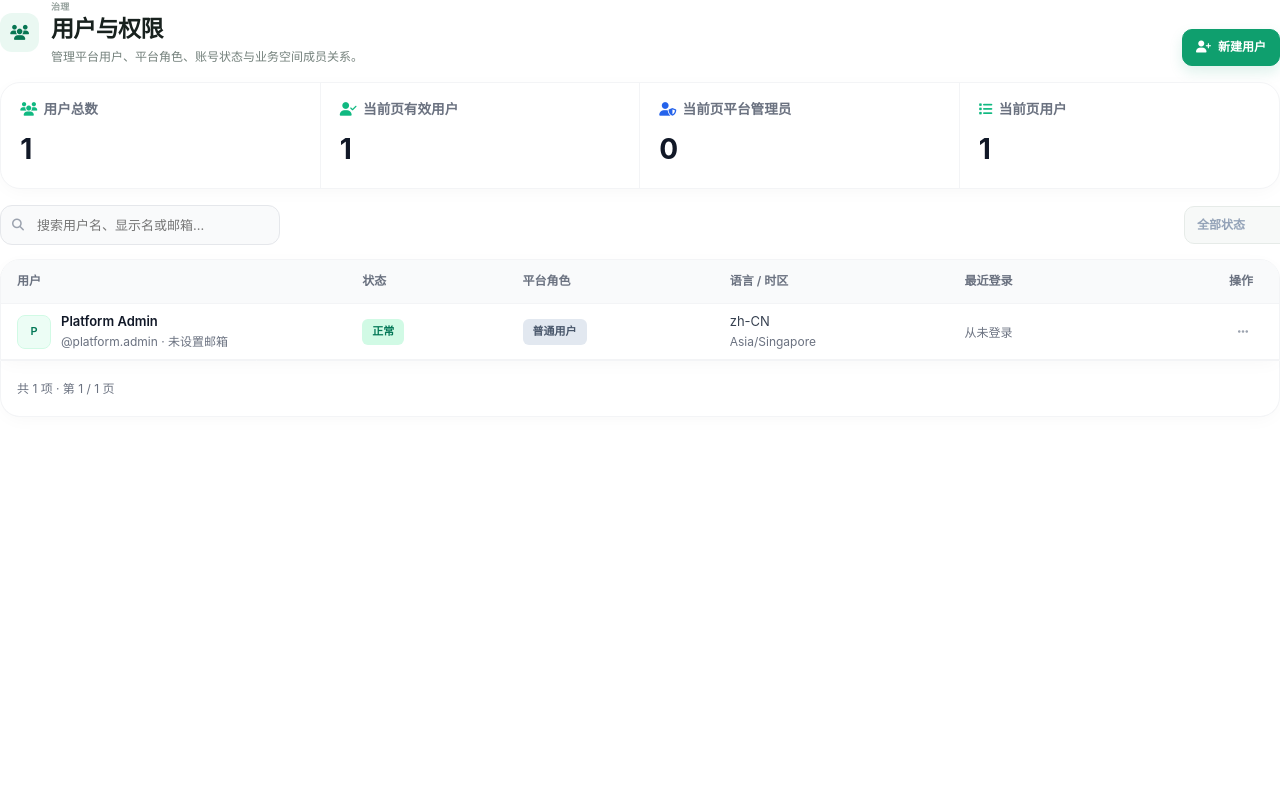
Scenario: user access management view › explains why create user is disabled and clears the reason when the form is valid
The width and height of the screenshot is (1280, 800).
Click the button "新建用户". click: click(1231, 47)
box: [1182,29,1279,66]
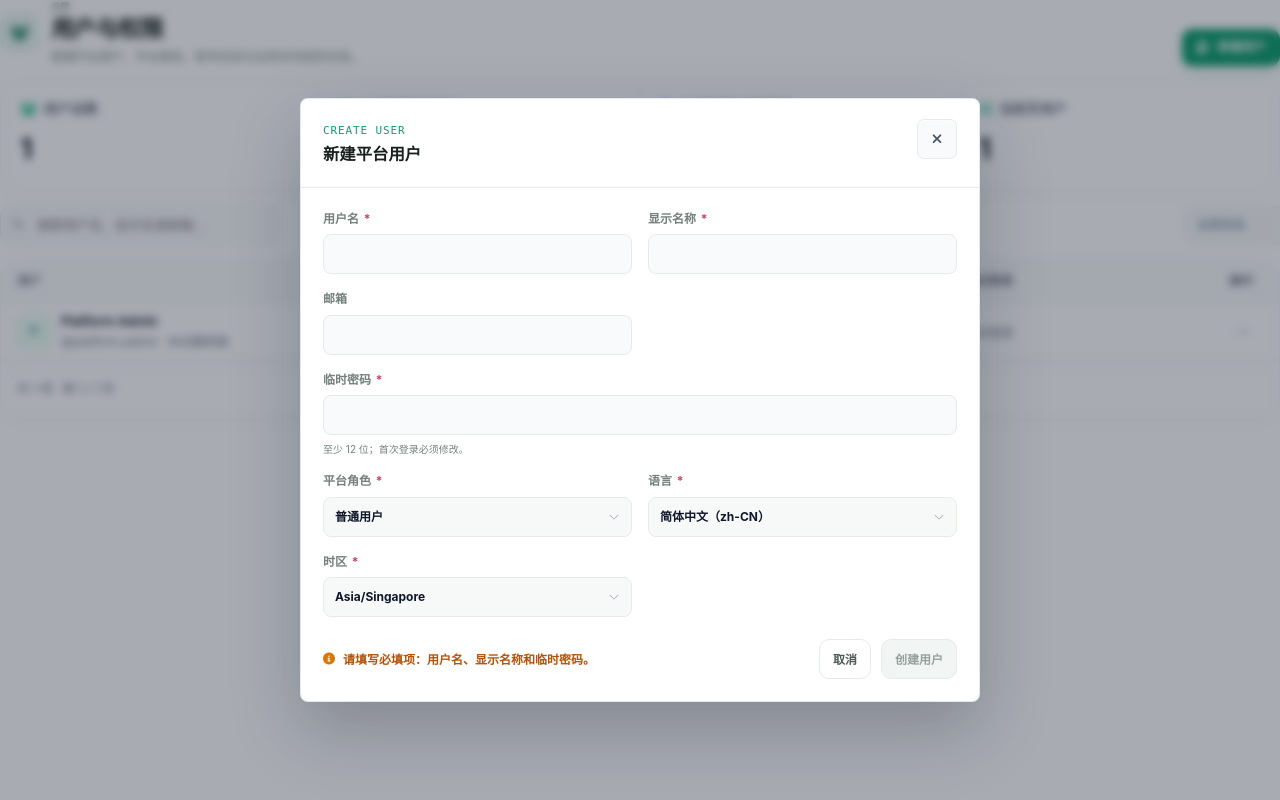
Result: the button "创建用户" is disabled at [881,639,957,679]
Result: the message with id "create-user-disabled-reason" reads "请填写必填项：用户名、显示名称和临时密码。" at [343,652,595,666]
Type "chenow" into the field labelled "用户名 *". click: (478, 254)
box: [323,234,632,274]
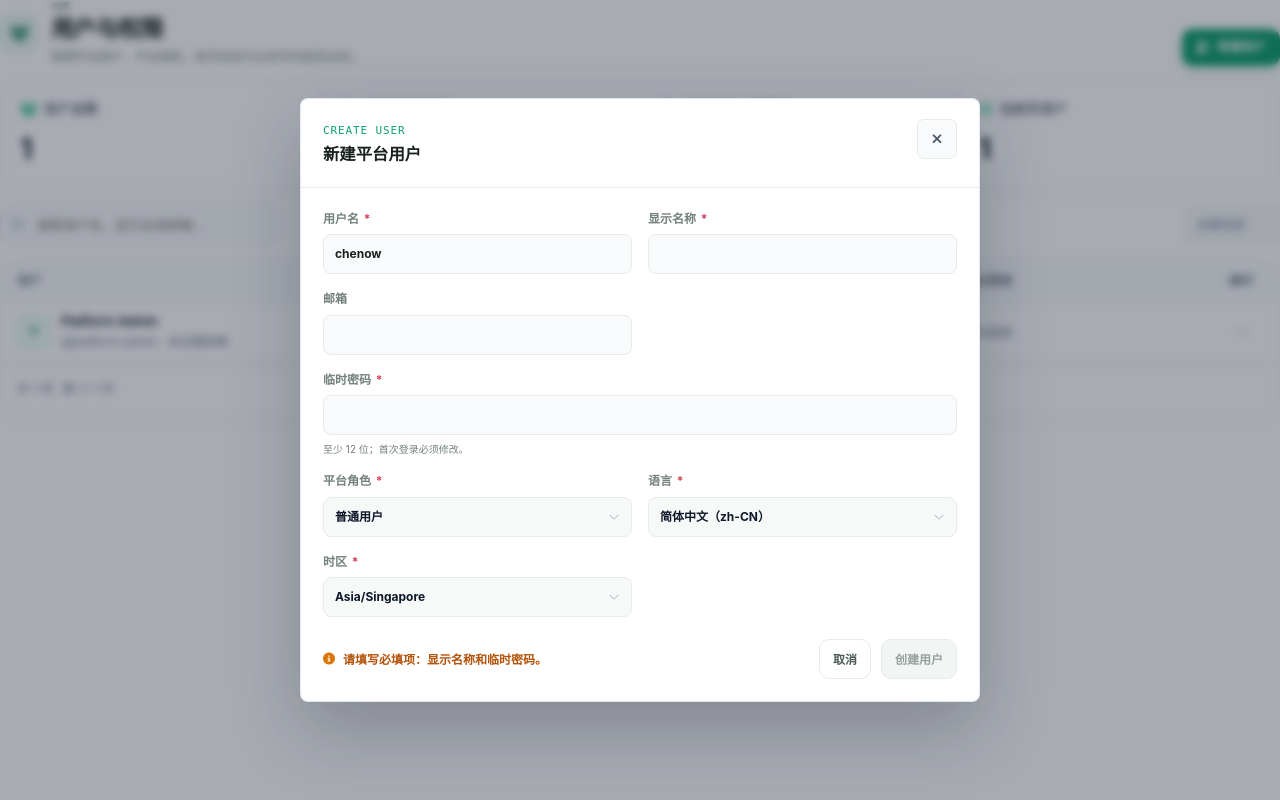
Type "chenow测试账号" into the field labelled "显示名称 *". click: (802, 254)
box: [648,234,957,274]
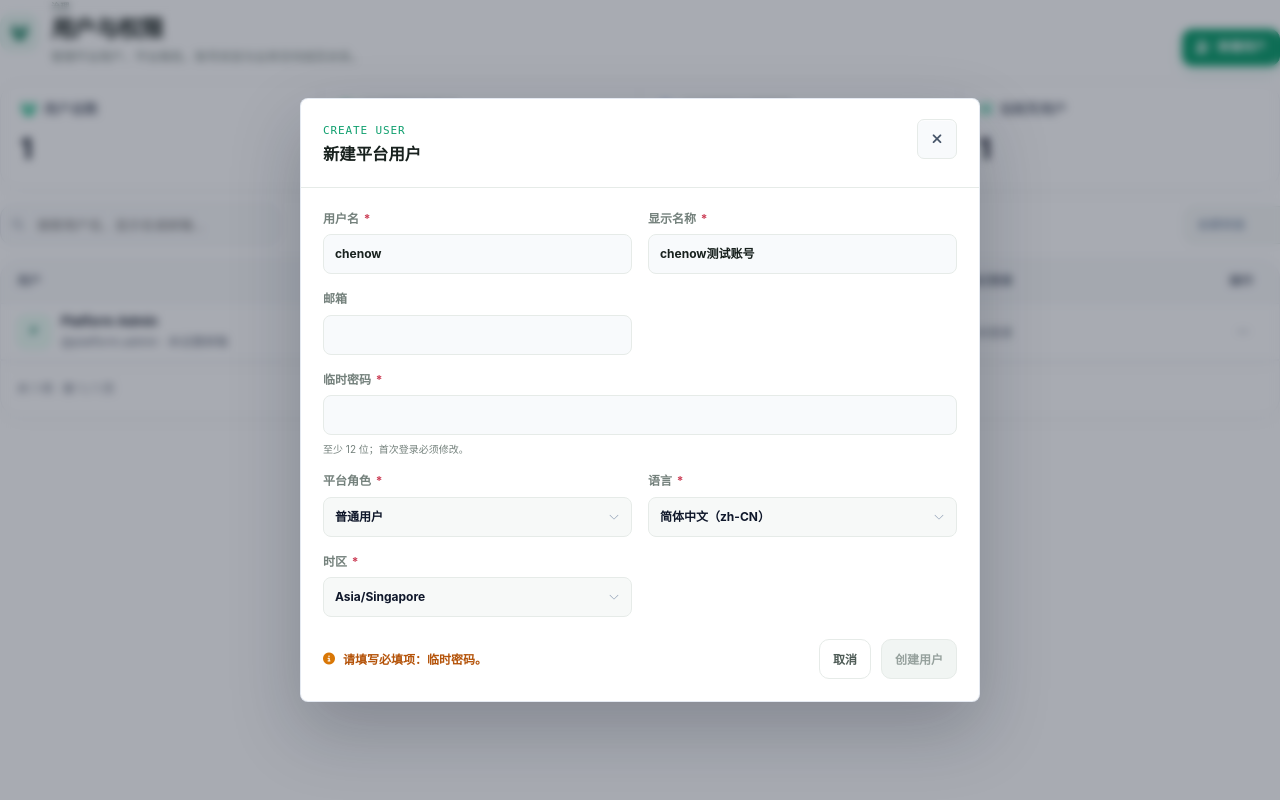
Type "123456789" into the password field labelled "临时密码 * 至少 12 位；首次登录必须修改。". click: (640, 415)
box: [323,395,957,435]
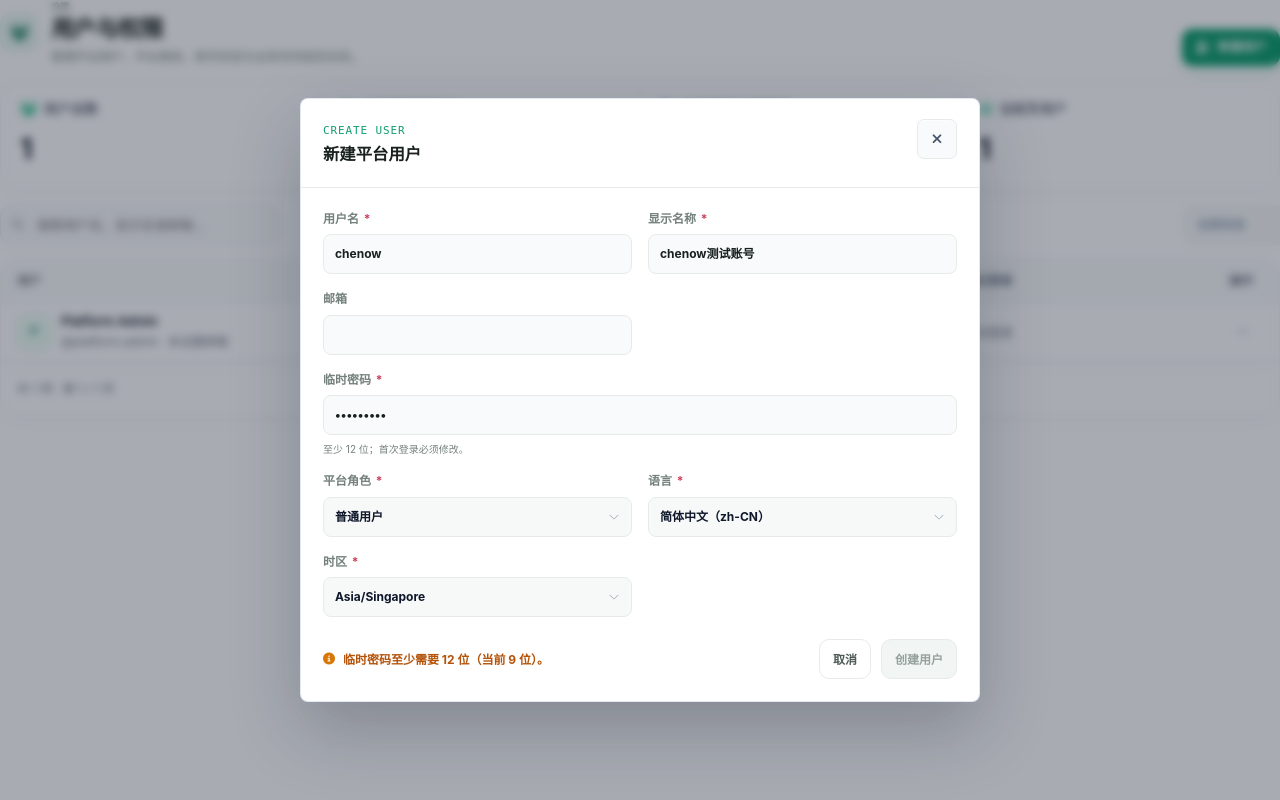
Result: the button "创建用户" is disabled at [881,639,957,679]
Result: the message with id "create-user-disabled-reason" reads "临时密码至少需要 12 位（当前 9 位）。" at [343,652,549,666]
Type "123456789012" into the password field labelled "临时密码 * 至少 12 位；首次登录必须修改。". click: (640, 415)
box: [323,395,957,435]
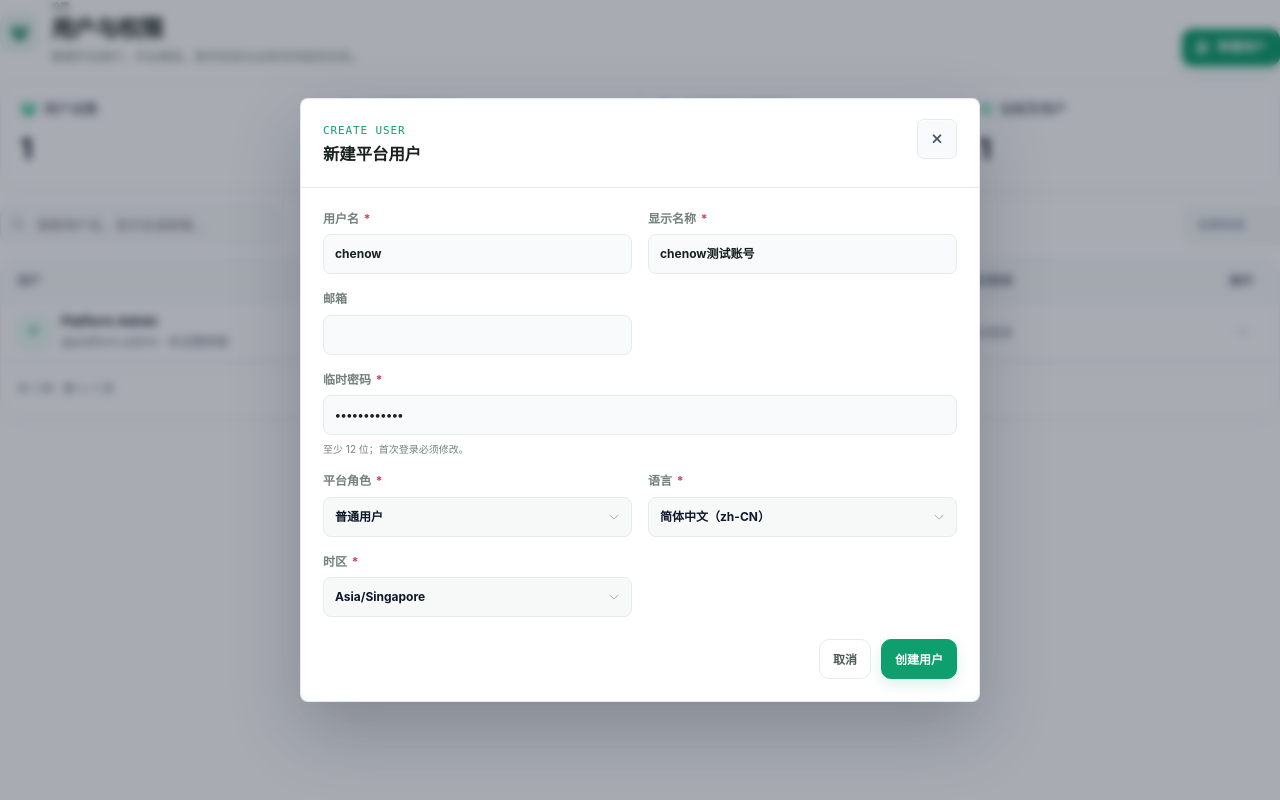
Result: the button "创建用户" is enabled at [881,639,957,679]
